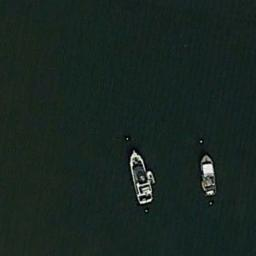boat: (128, 149, 153, 204), (198, 152, 218, 198)
